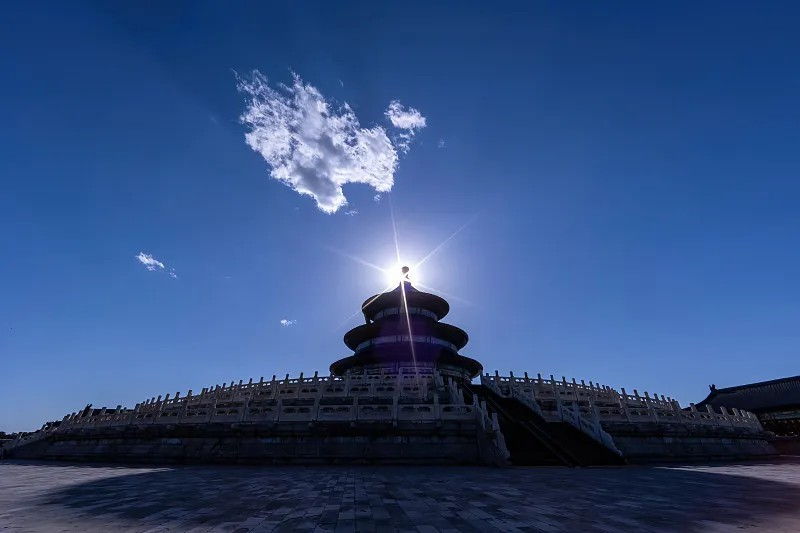Heaven: (328, 265, 483, 385)
